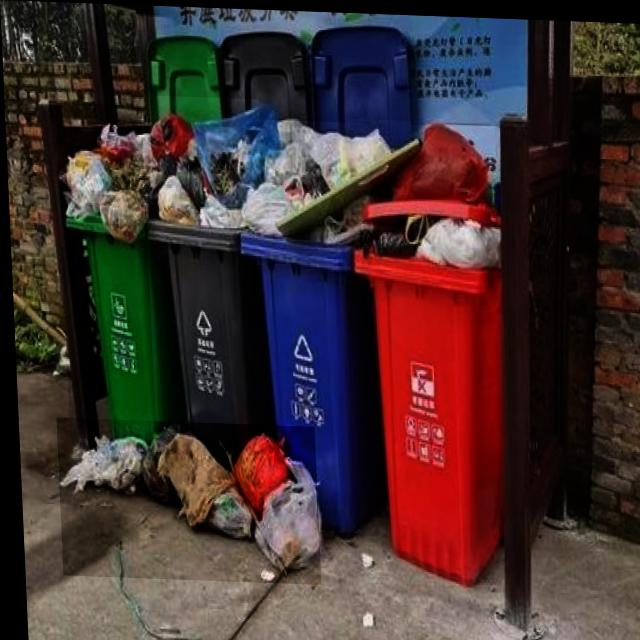garbage: (53, 417, 317, 582)
overflow: (345, 116, 510, 584), (234, 117, 381, 532), (140, 94, 271, 469), (55, 102, 177, 436)
